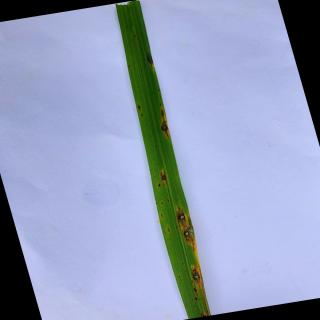Blast: (160, 109, 170, 139), (175, 207, 187, 226), (191, 267, 202, 285), (187, 216, 196, 238), (159, 170, 168, 185), (146, 52, 154, 68), (181, 229, 190, 243), (200, 311, 208, 317), (192, 287, 198, 293), (137, 105, 142, 110), (140, 113, 144, 118)
